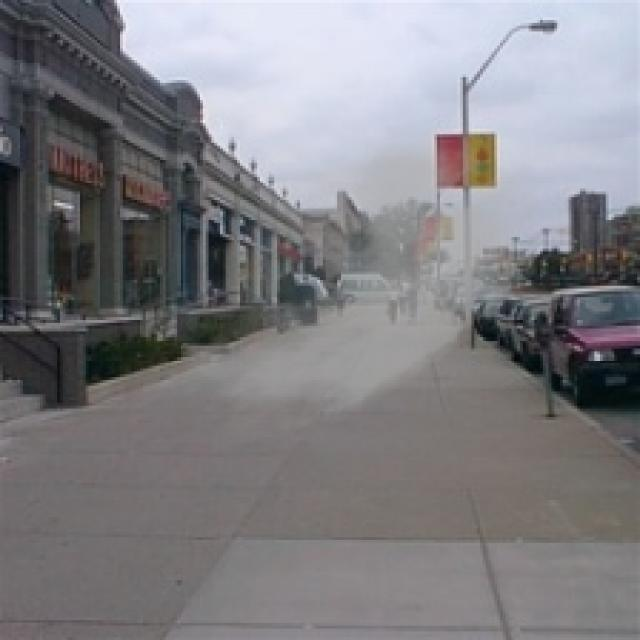smoke: (135, 109, 554, 452)
